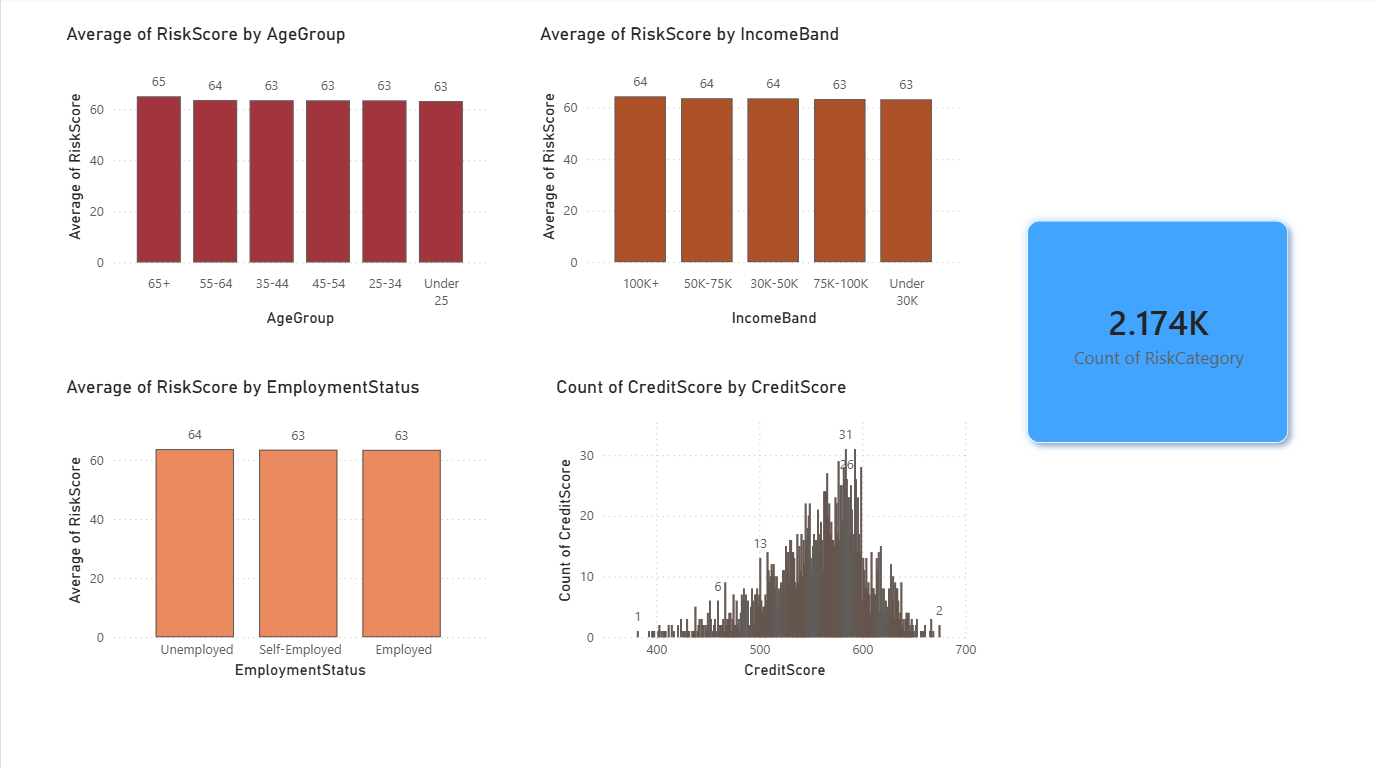

This screenshot's page, from the dashboard's own definition file:
{"tool":"powerbi","page":{"name":"Customer Risk Analysis","canvas":[1280,720],"ordinal":1},"visuals":[{"type":"clusteredColumnChart","fields":{"Category":["loan_data_with_risk.AgeGroup"],"Y":["Avg(loan_data_with_risk.RiskScore)"]},"box":[55.8,24.4,401.2,287.2],"z":0},{"type":"clusteredColumnChart","fields":{"Category":["loan_data_with_risk.IncomeBand"],"Y":["Avg(loan_data_with_risk.RiskScore)"]},"box":[496.5,24.4,401,287],"z":1000},{"type":"clusteredColumnChart","fields":{"Category":["loan_data_with_risk.EmploymentStatus"],"Y":["Avg(loan_data_with_risk.RiskScore)"]},"box":[55.8,352.3,401,287],"z":2000},{"type":"clusteredColumnChart","fields":{"Category":["loan_data_with_risk.CreditScore"],"Y":["CountNonNull(loan_data_with_risk.CreditScore)"]},"box":[511.6,352.3,401,287],"z":3000},{"type":"cardVisual","fields":{"Data":["CountNonNull(loan_data_with_risk.RiskCategory)"]},"box":[925.6,179.1,301.2,265.1],"z":4000}]}

Visuals, with their boxes in screenshot pixels (x1, y1, x2, y2), scaled from the page's 1280x720 canvas onto the 1376x768 screenshot:
clusteredColumnChart - loan_data_with_risk.AgeGroup x Avg(loan_data_with_risk.RiskScore): crop(60, 26, 491, 332)
clusteredColumnChart - loan_data_with_risk.IncomeBand x Avg(loan_data_with_risk.RiskScore): crop(534, 26, 965, 332)
clusteredColumnChart - loan_data_with_risk.EmploymentStatus x Avg(loan_data_with_risk.RiskScore): crop(60, 376, 491, 682)
clusteredColumnChart - loan_data_with_risk.CreditScore x CountNonNull(loan_data_with_risk.CreditScore): crop(550, 376, 981, 682)
cardVisual - CountNonNull(loan_data_with_risk.RiskCategory): crop(995, 191, 1319, 474)
